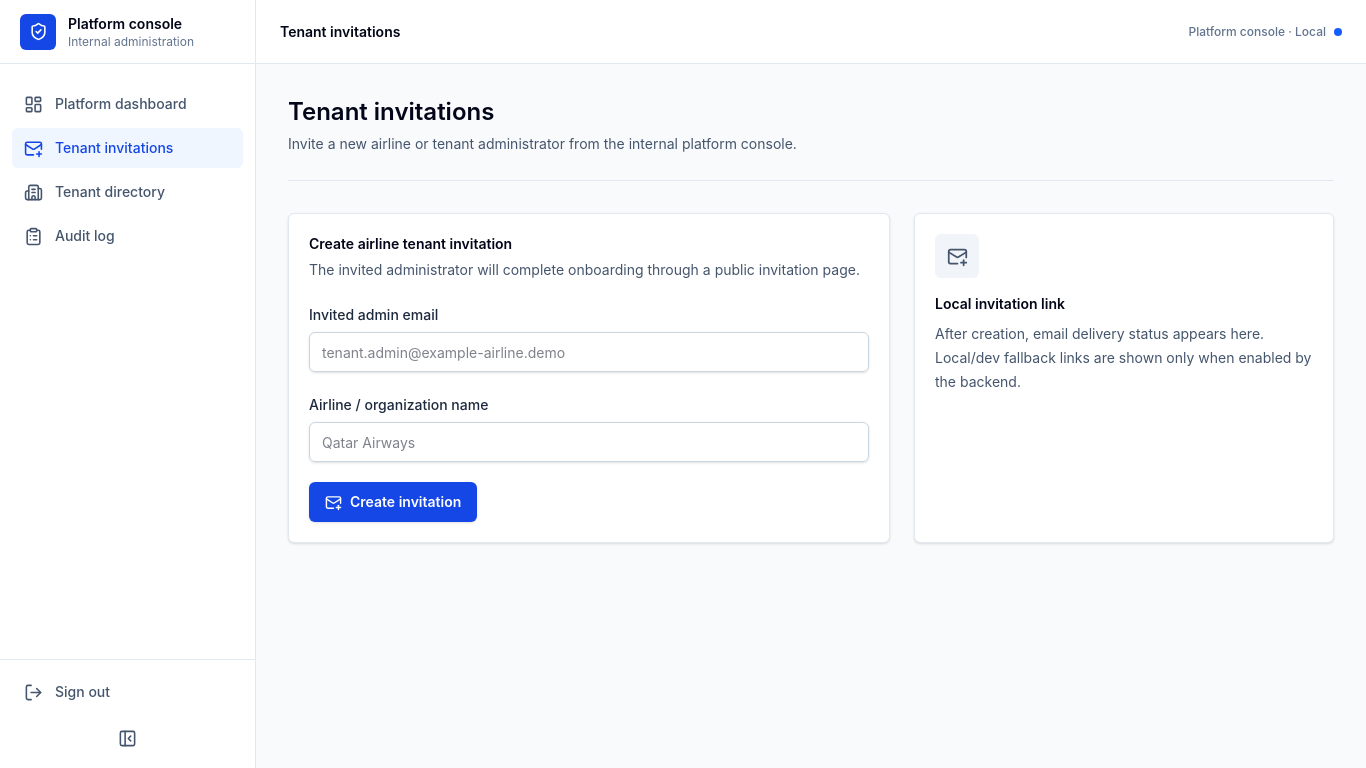
Scenario: PlatformInvitationsPage › maps duplicate pending invitation errors to conflict UI
Type "tenant.admin@thy.demo" into the field labelled "Invited admin email".
click(589, 352); type("tenant.admin@thy.demo")  # box [309,332,869,372]
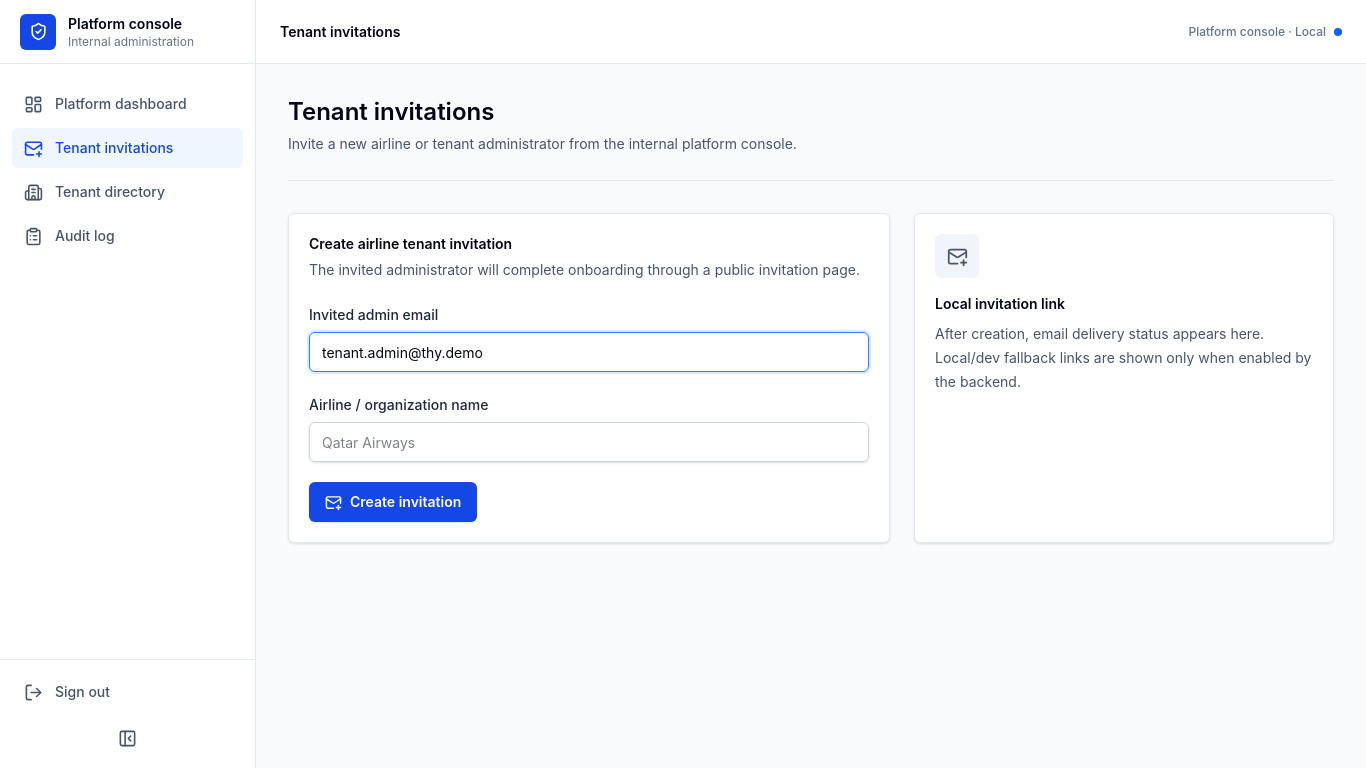
Type "THY Airlines" into the field labelled "Airline / organization name".
click(589, 442); type("THY Airlines")  # box [309,422,869,462]
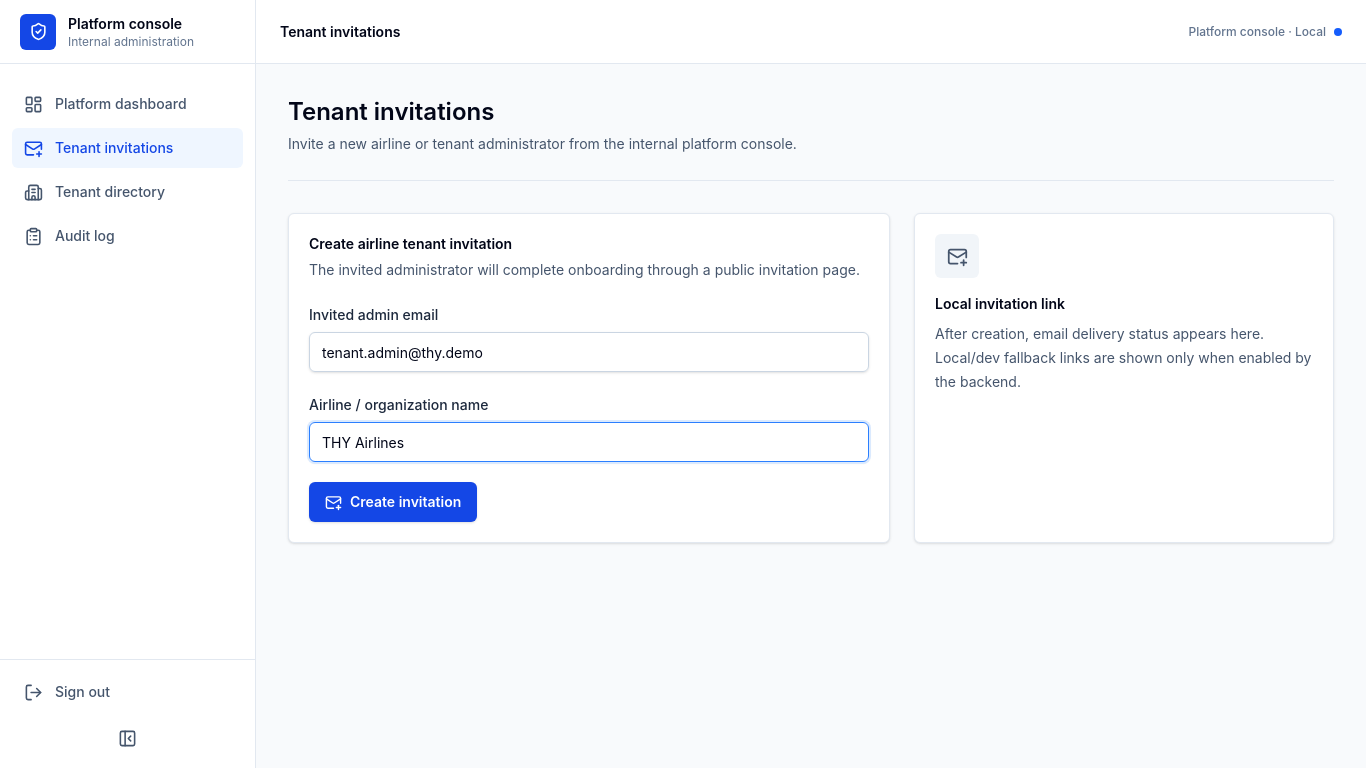
Click the button "Create invitation".
click(393, 502)  # box [309,482,477,522]
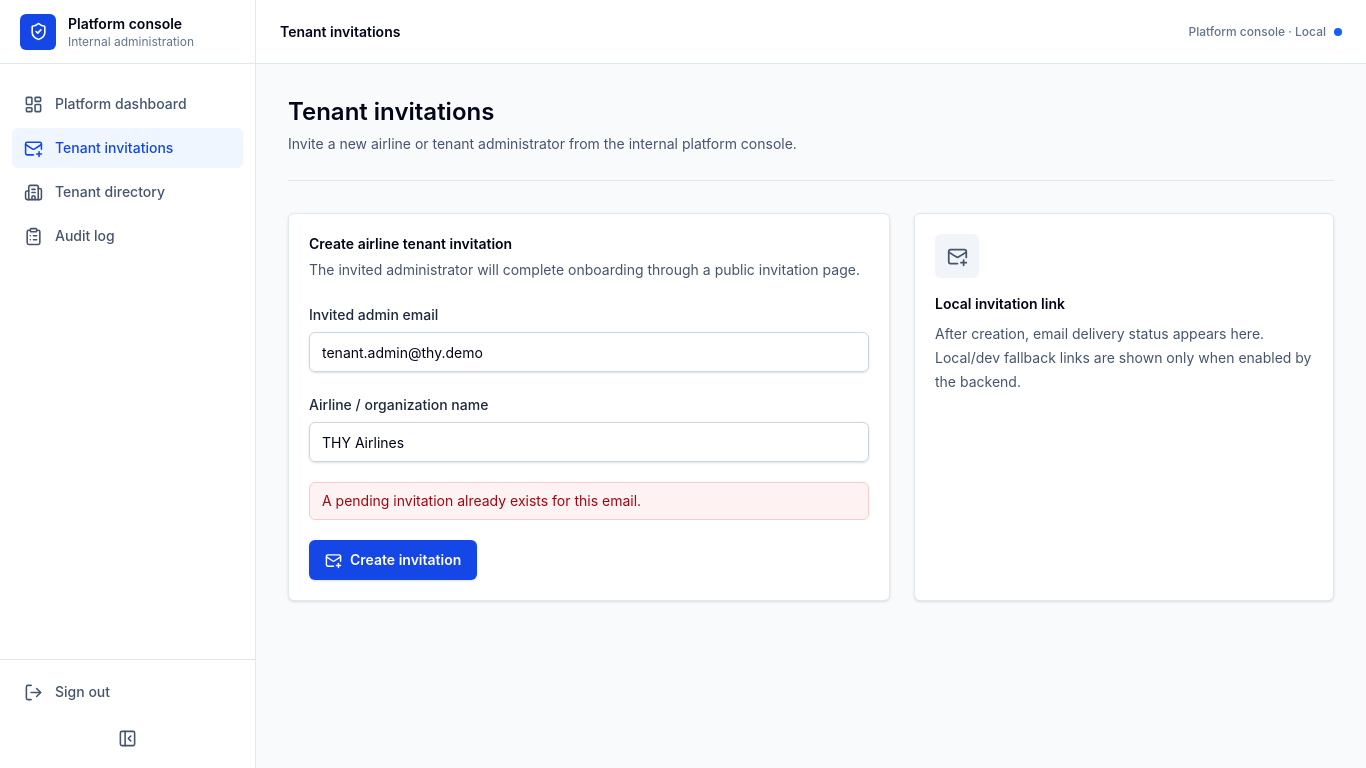
Result: the message reads "A pending invitation already exists for this email." at [322,492,641,509]
